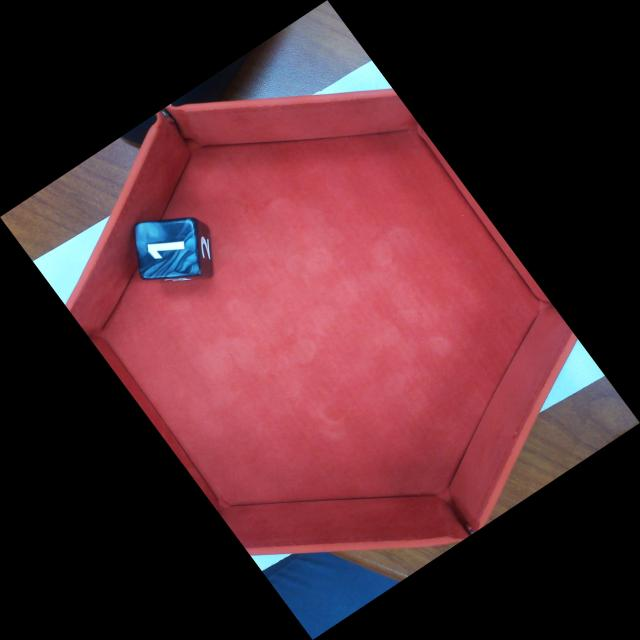dice: (134, 217, 202, 281)
